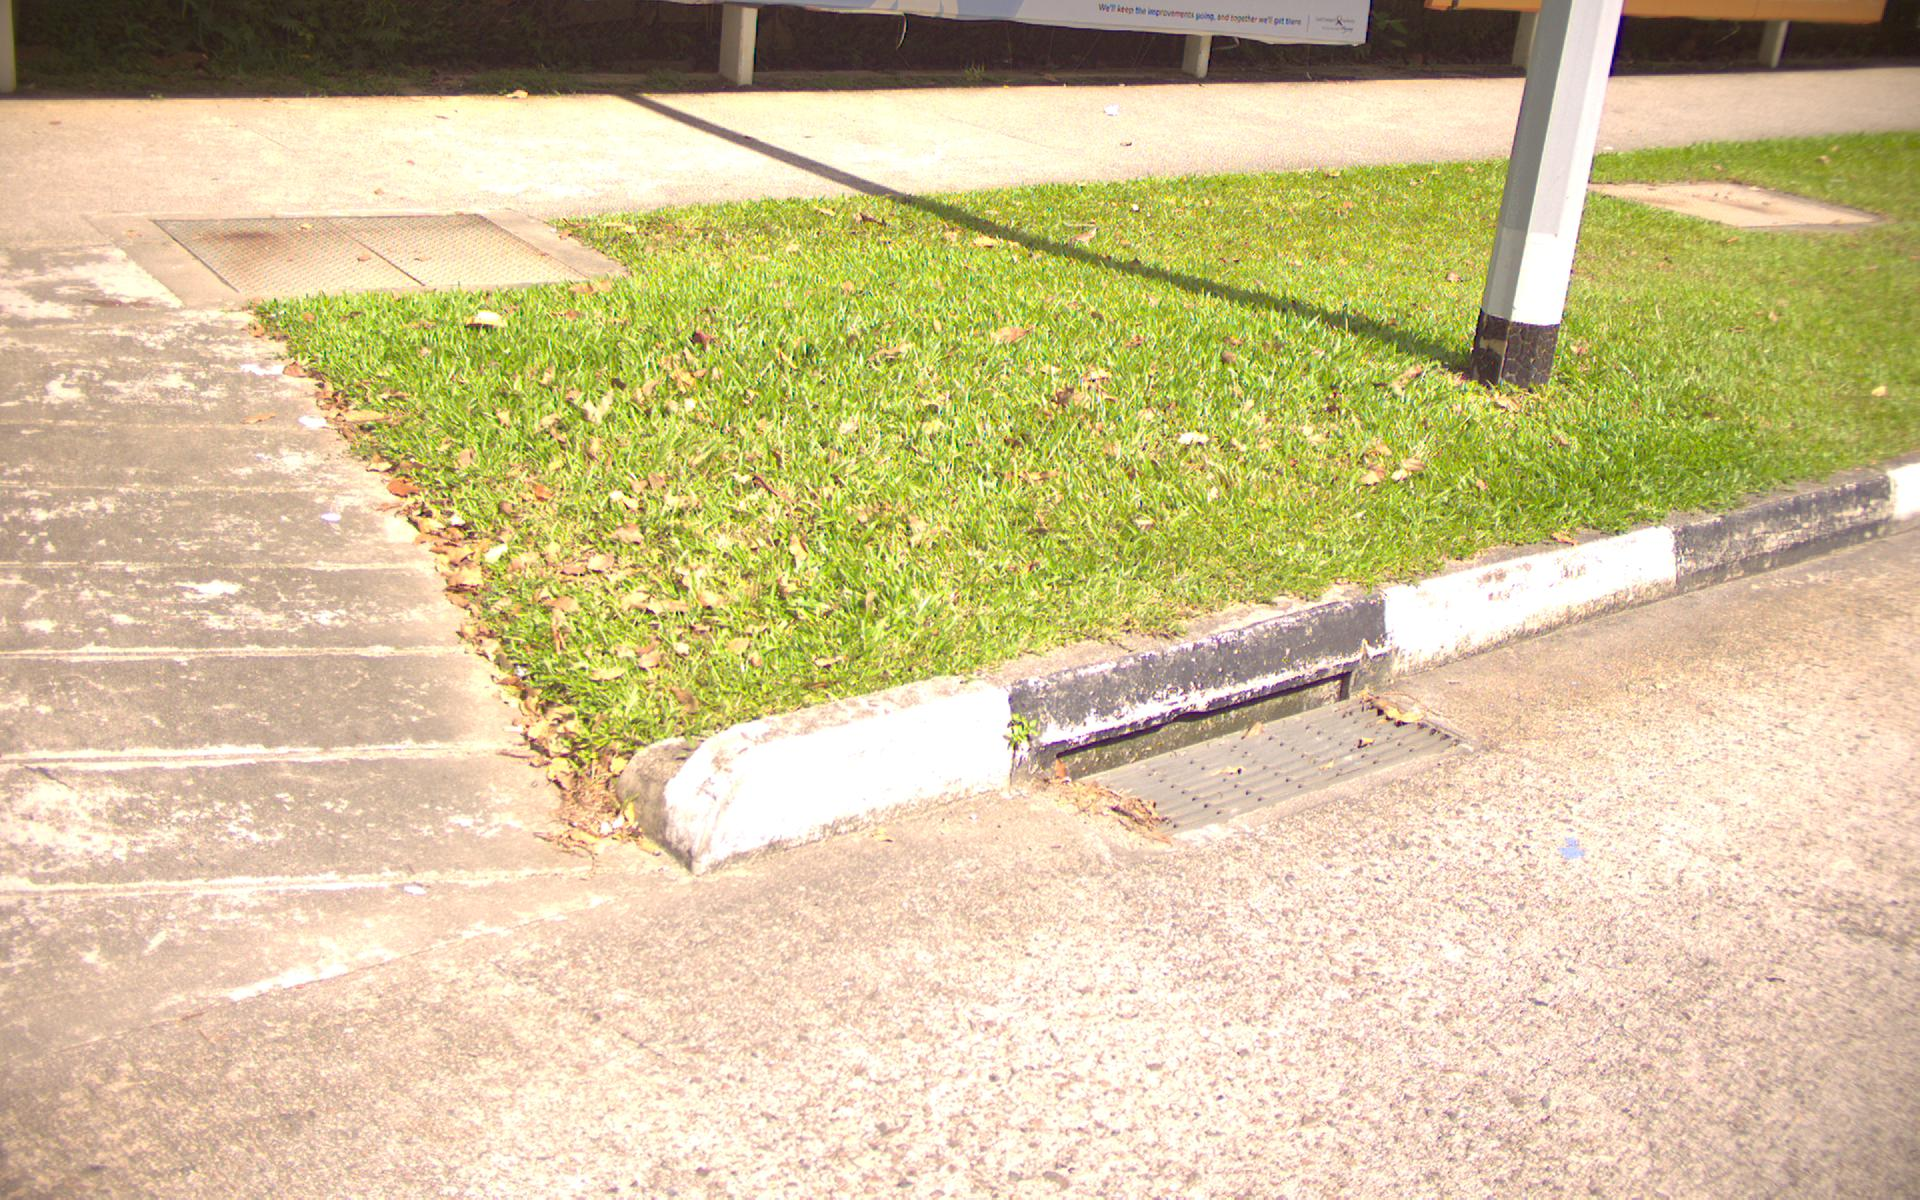curb_dic_low: (1010, 698, 1516, 792)
pathway_low: (8, 408, 376, 1200), (30, 93, 1215, 178)
road_turf_low: (654, 203, 1913, 455)
